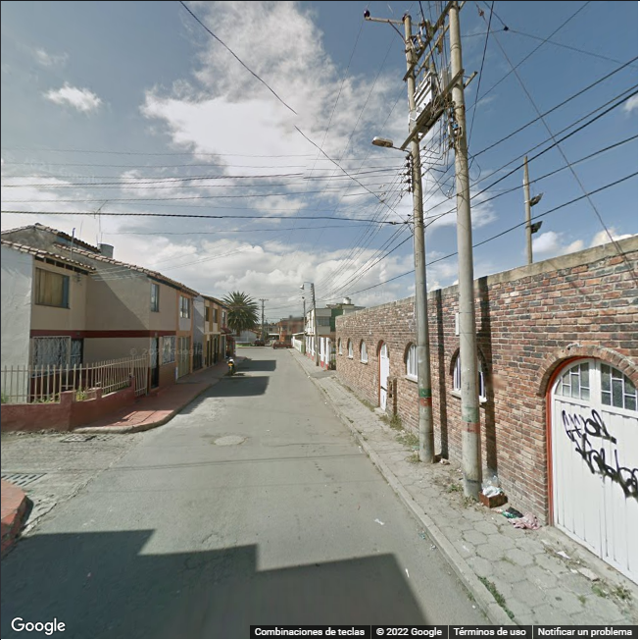D20: (176, 526, 242, 586)
